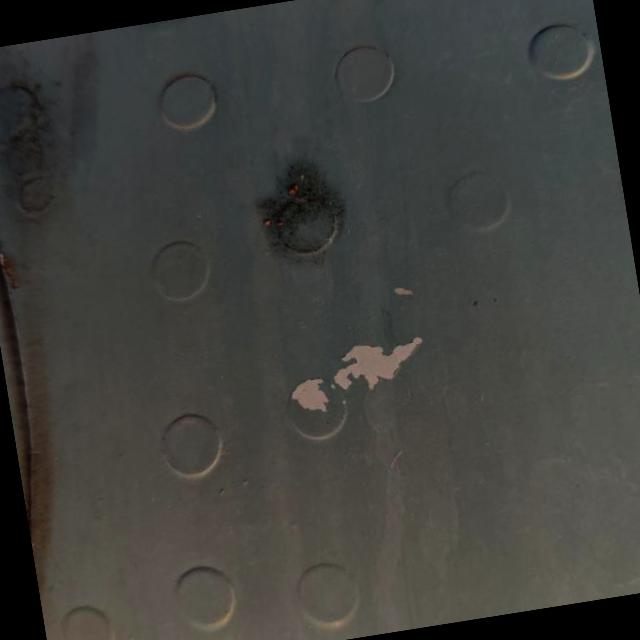paint-off: (268, 315, 450, 436)
